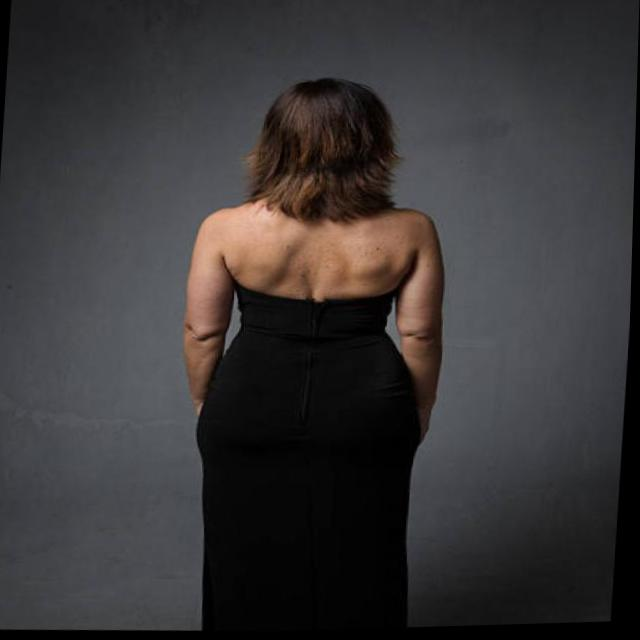no helmet: (247, 74, 402, 208)
